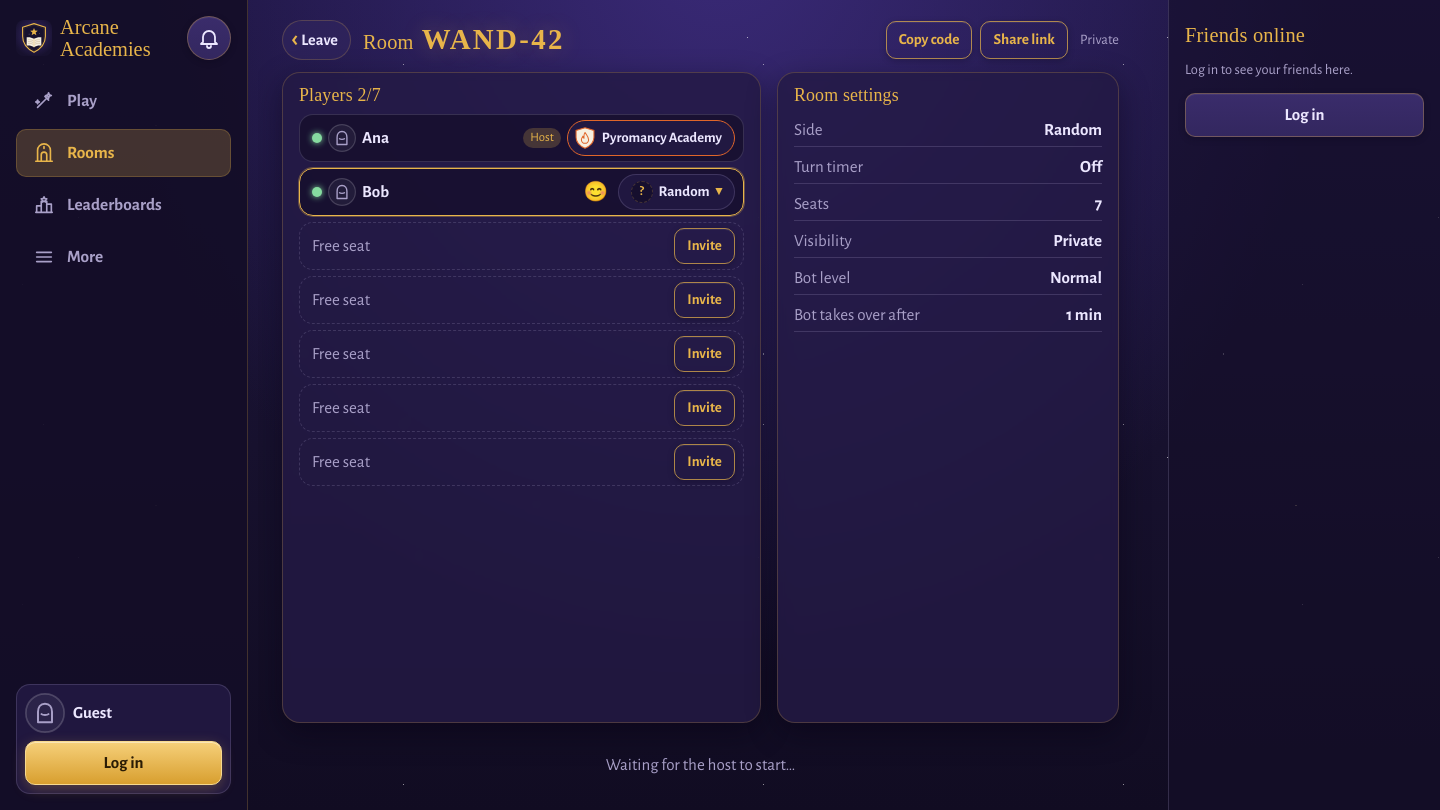
Test: Lobby › an academy another player picked is greyed "taken"
Click the button with aria-label "Academy: Bob": (676, 192) [618,174,735,210]
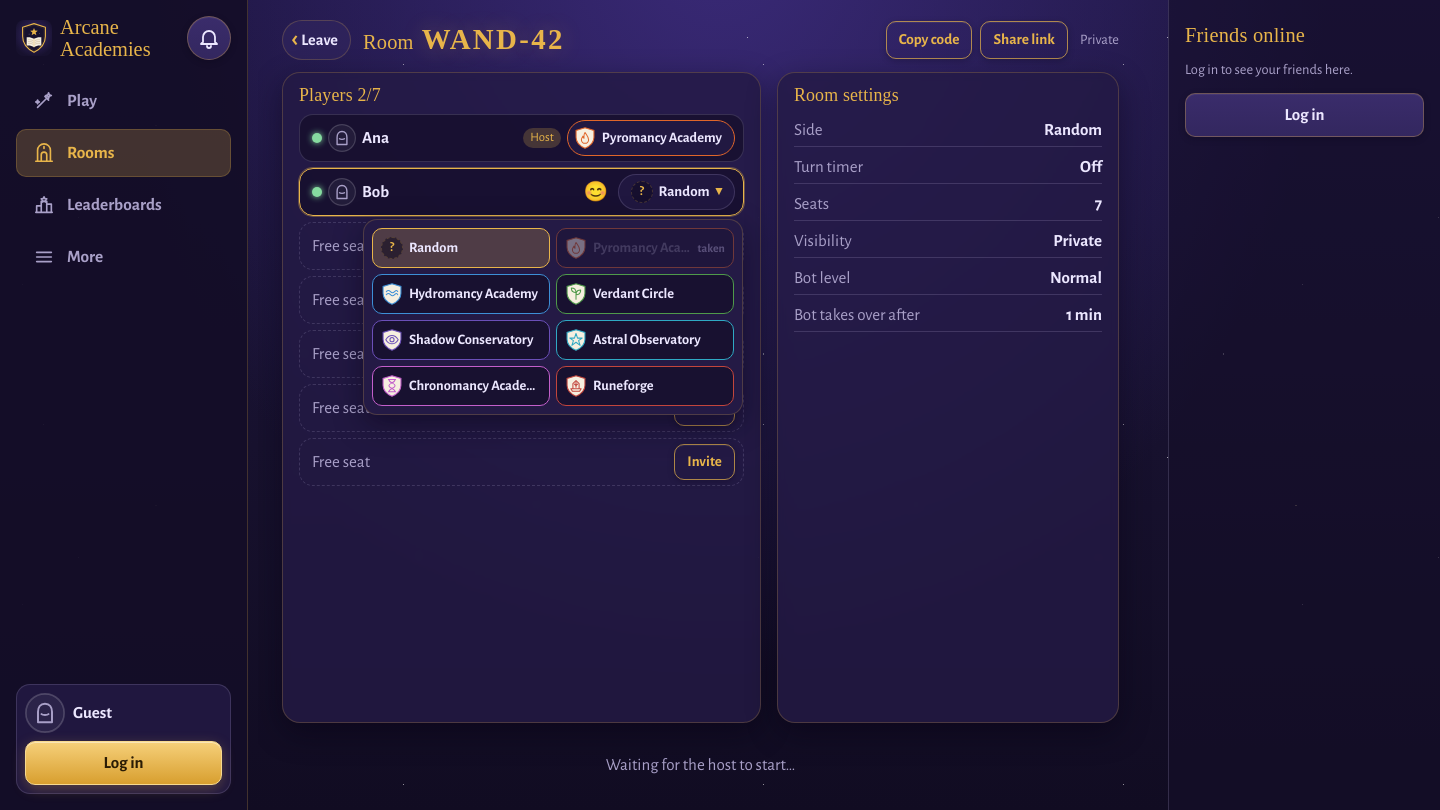
Expected: the button "Pyromancy Academy taken" is disabled, [556,228,734,268]
Expected: the button "Pyromancy Academy taken" is shown, [556,228,734,268]
Expected: the 2nd button "? Random" is enabled, [372,228,550,268]
